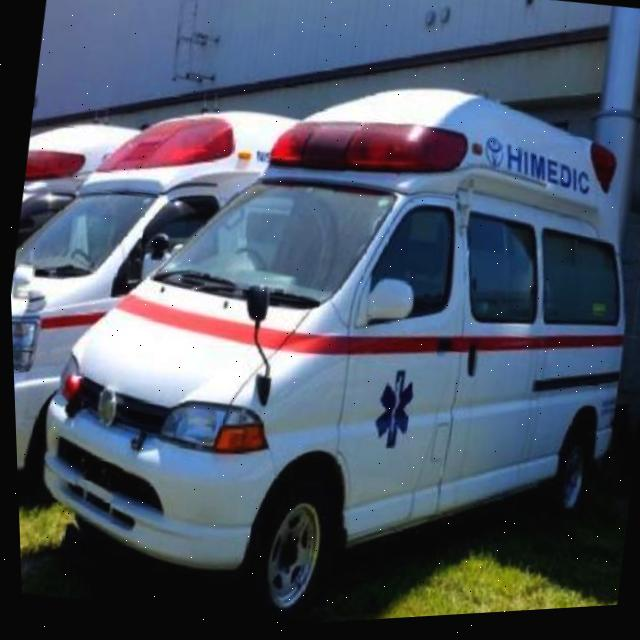emergency: (2, 28, 640, 640)
